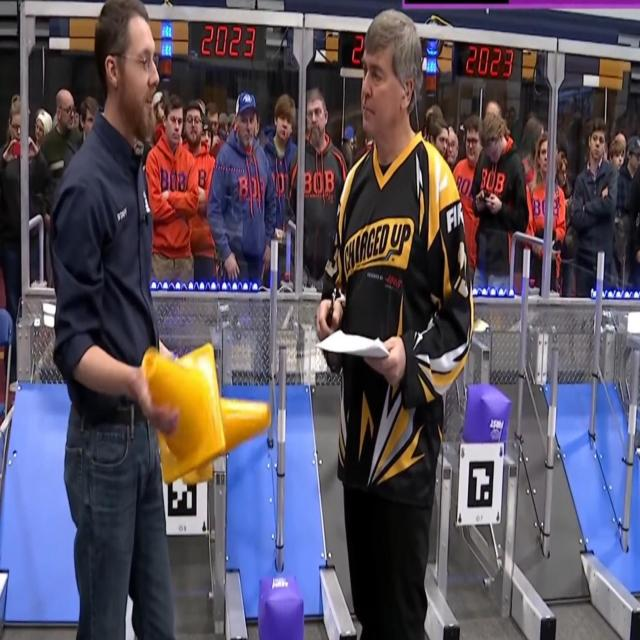frc_cone: (141, 343, 225, 481), (218, 392, 272, 466)
frc_cube: (463, 382, 509, 450), (257, 575, 305, 640)
